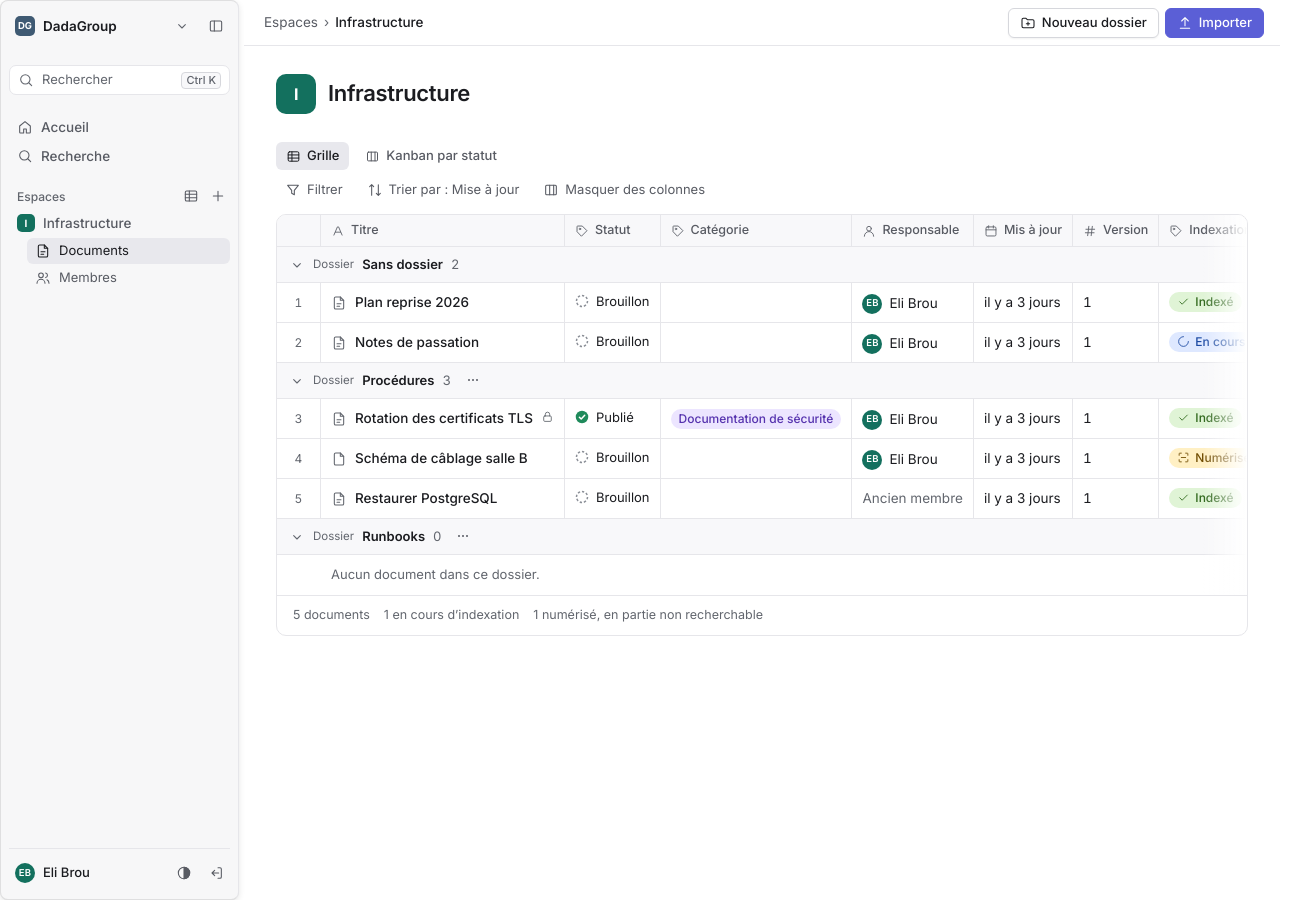
library › folds a group, and filters by folder
Click the button "Dossier Procédures 3" at (370, 380), box [283,366,457,394]
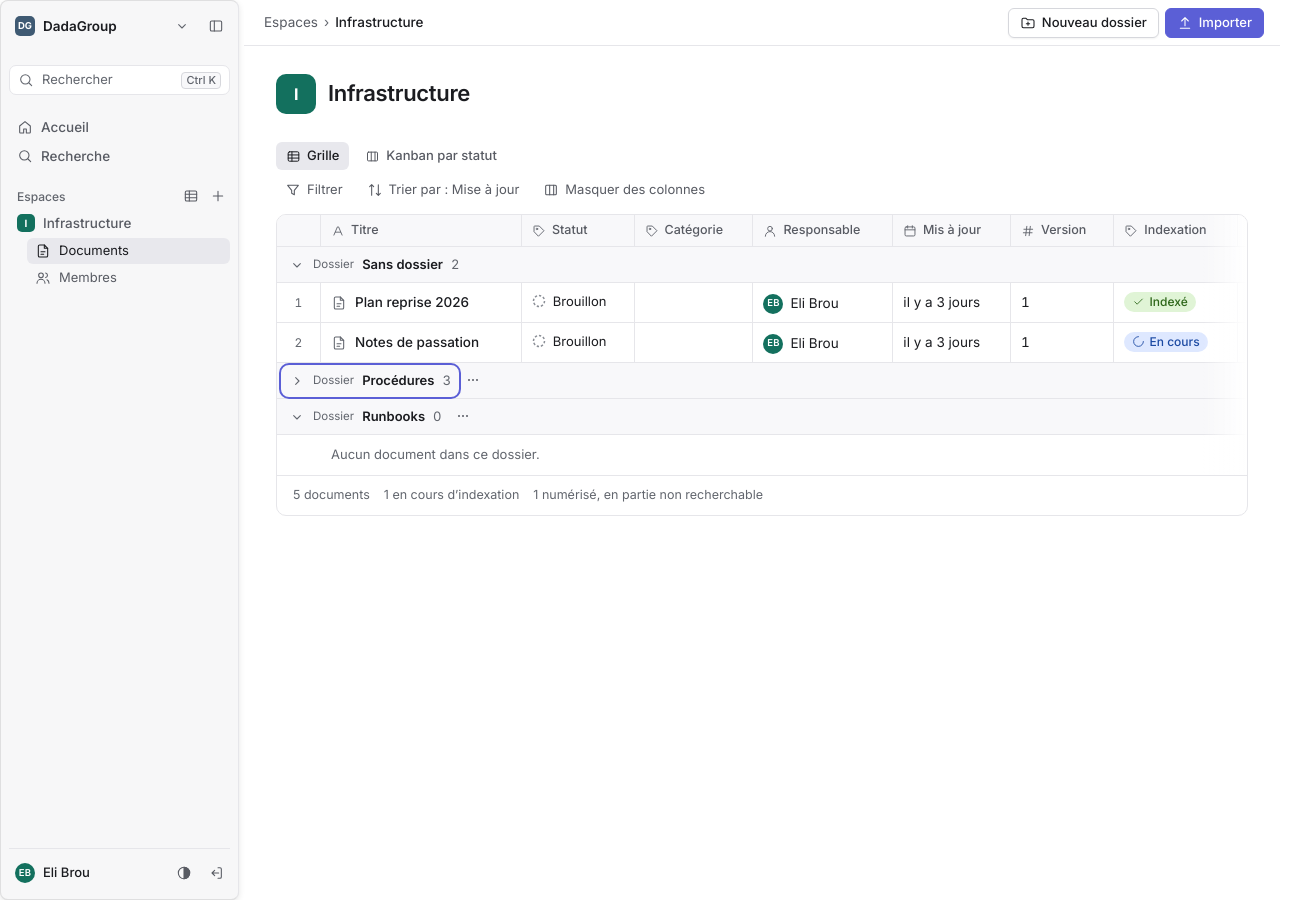
Click the button with aria-label "Filtrer par dossier" at (314, 190), box [276,176,352,204]
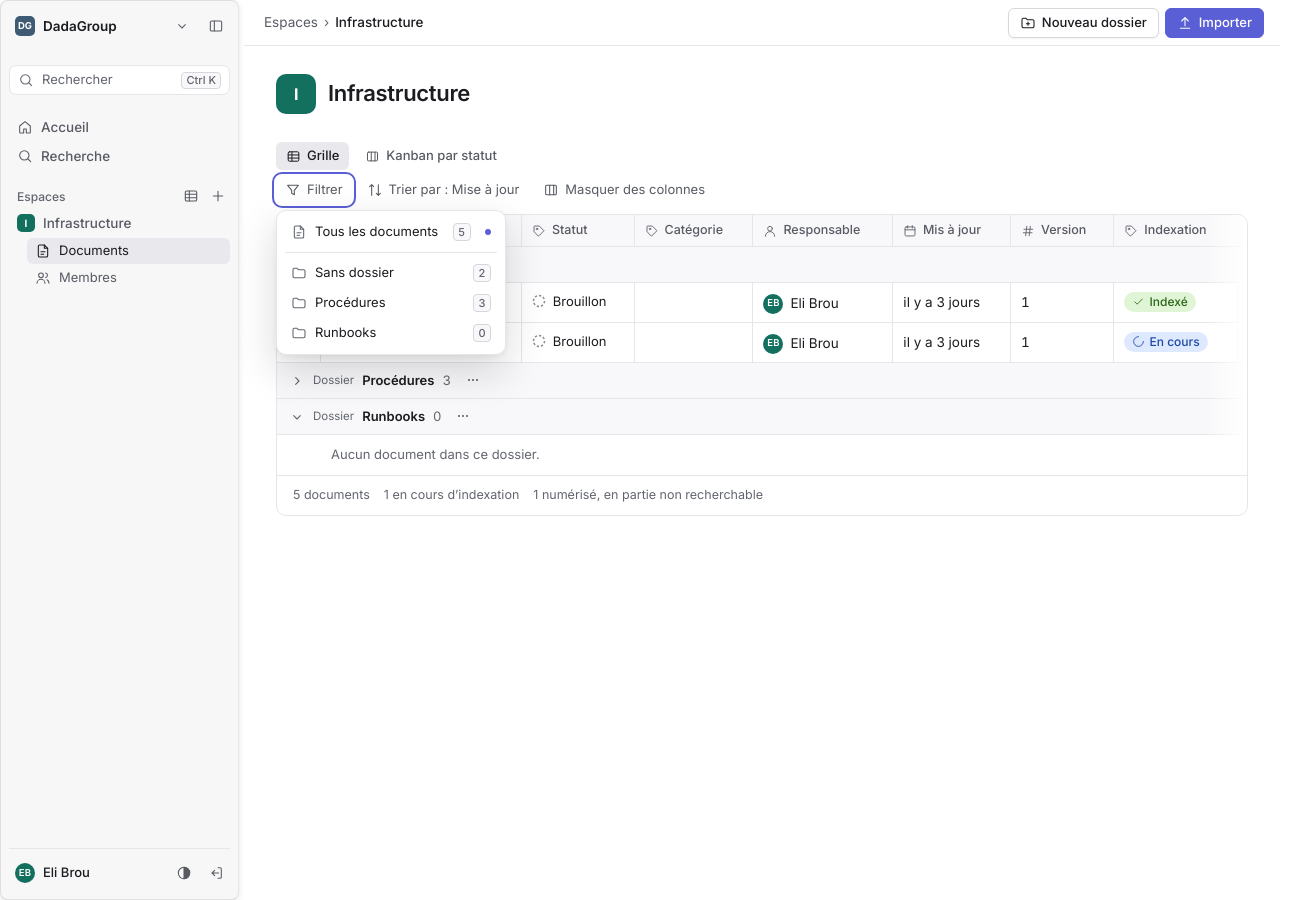
Click the menu item "Procédures 3" at (391, 303), box [283,288,499,318]
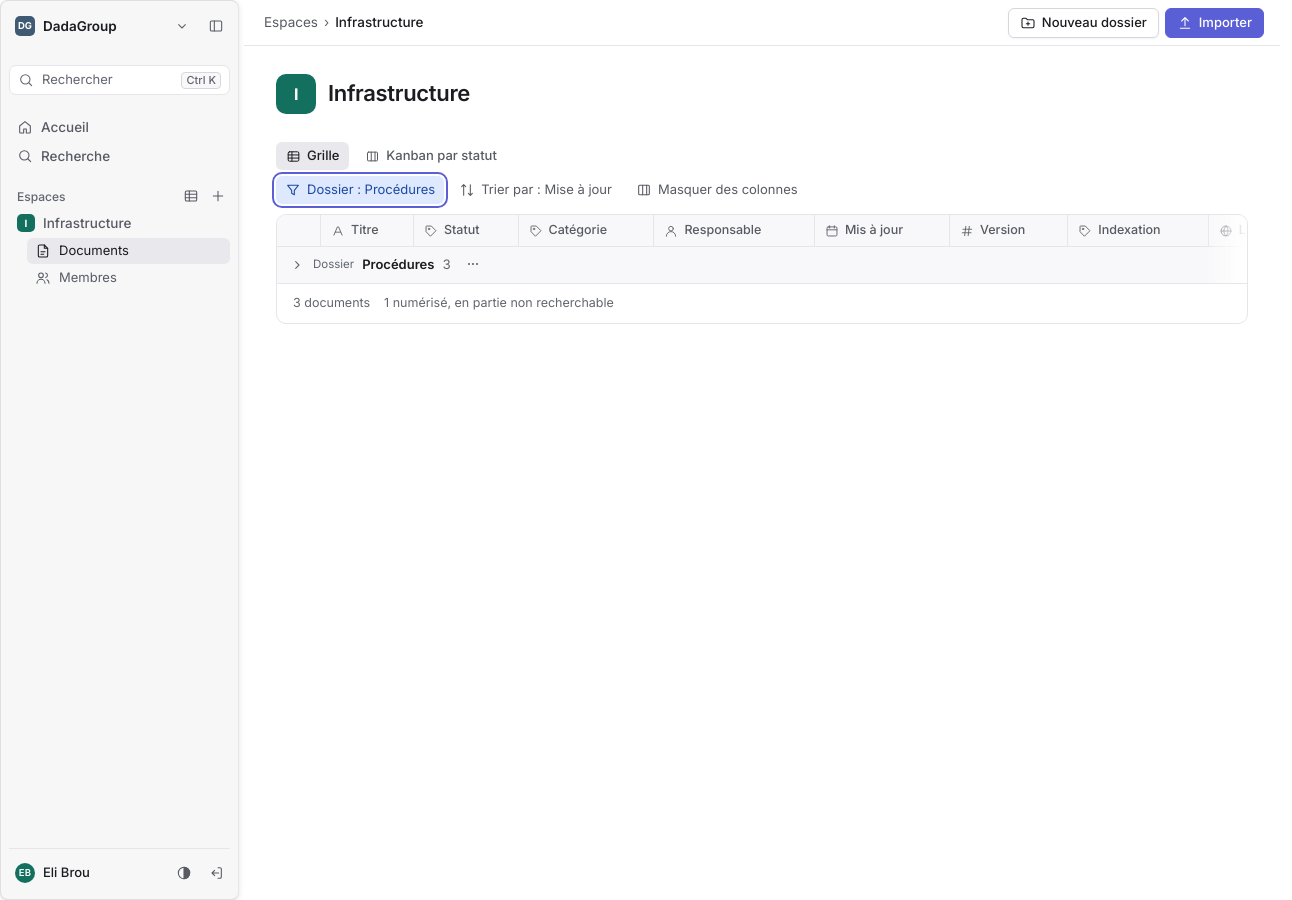
Check: the button with aria-label "Filtrer par dossier" reads "Dossier : Procédures", box [276,176,444,204]
Check: the text "3 documents" is shown, box [293,294,370,313]
